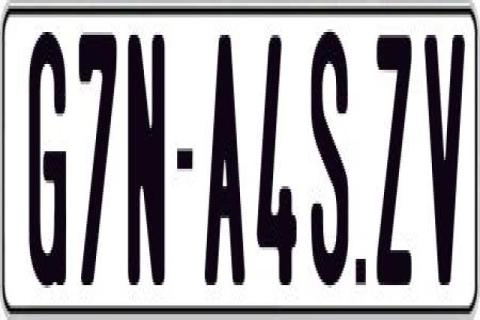0: (258, 35, 301, 288), (78, 26, 117, 288)
A: (204, 35, 250, 285)
G: (29, 26, 68, 291)
N: (126, 29, 164, 291)
S: (310, 26, 350, 294)
V: (424, 35, 466, 297)
Z: (376, 32, 413, 294)
